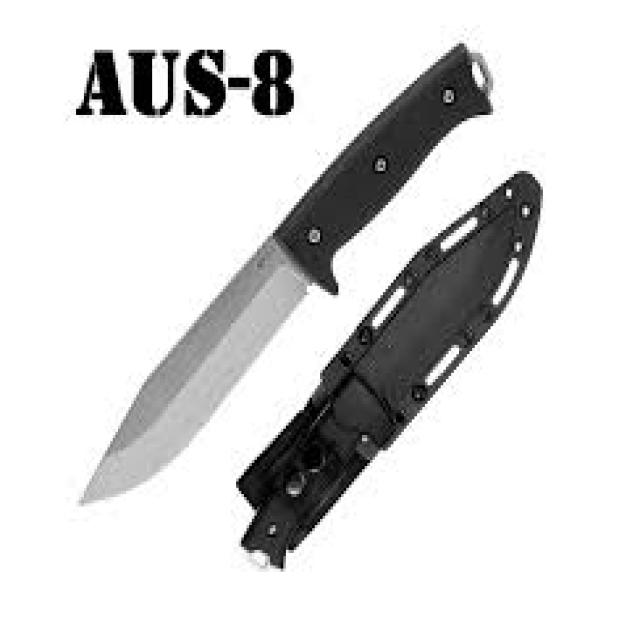knives: (40, 143, 399, 557)
